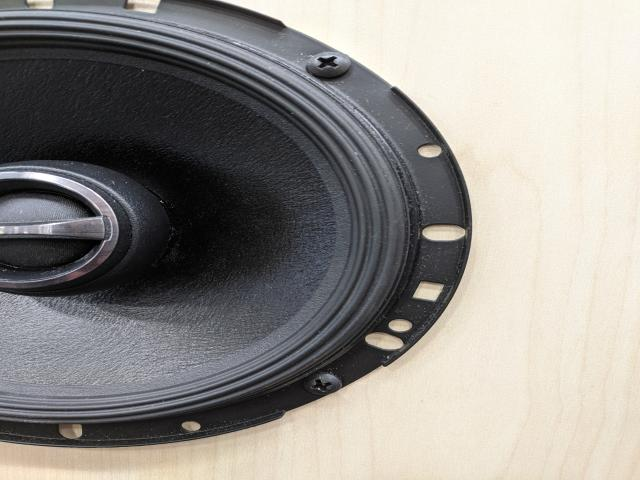CRS: (304, 48, 355, 80), (302, 372, 346, 395)
